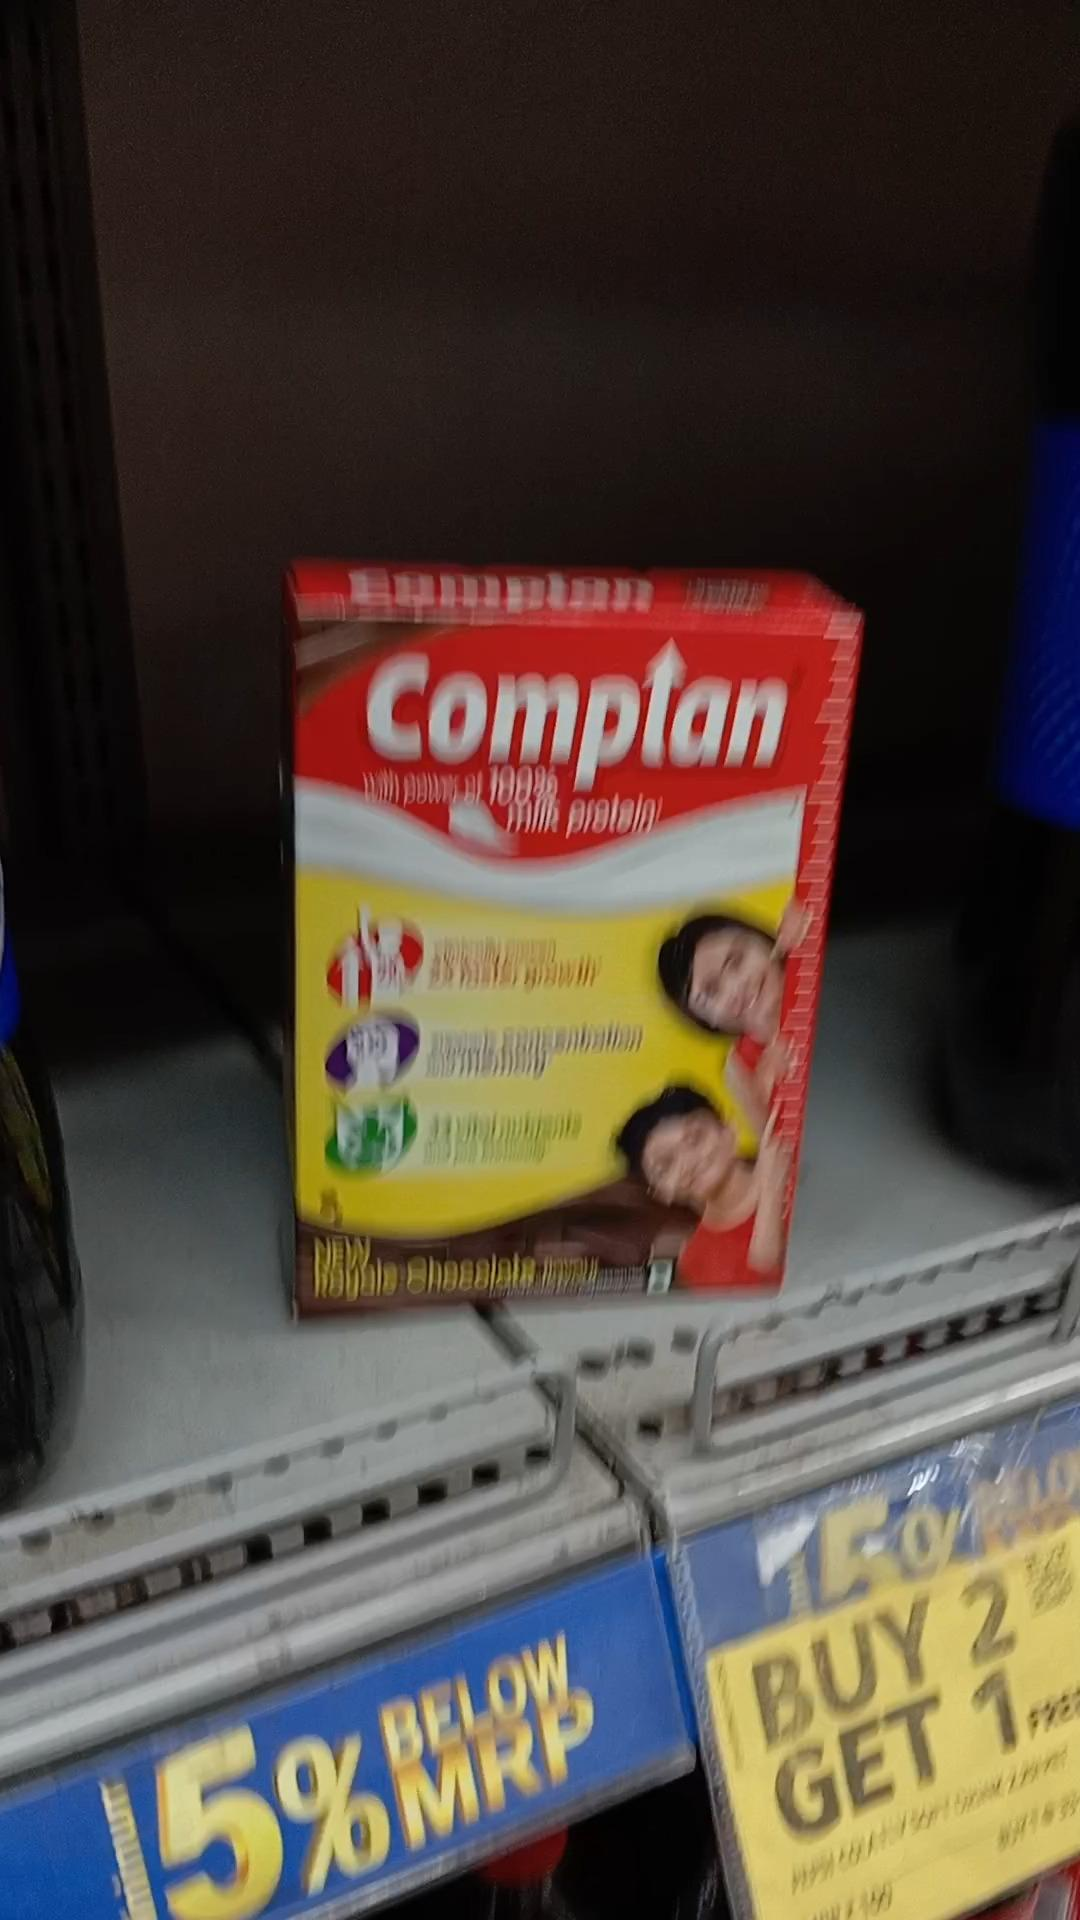COMPLAN_CHOCOLATE_200_GMS_PACK: (291, 612, 791, 1315)
